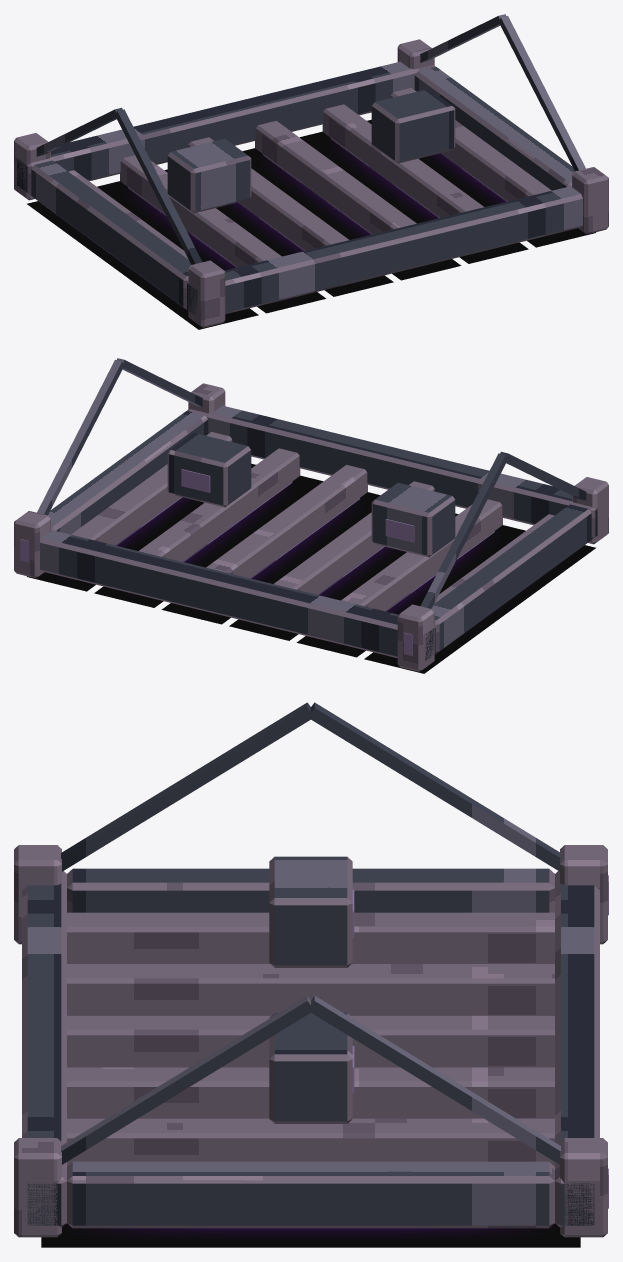
Rendered from placed_uv_panel_6_lit.obj.
3 views of the same model, one above another, from view 1: azimuth 30°, elevation 25°; view 2: azimuth 150°, elevation 25°; view 3: azimuth 270°, elevation 25° (orthographic). The views are drawn at different scales.
Parts seen in each view (by area): view 1: model; view 2: model; view 3: model.
Boxes of the visible parts, left/top/right/bottom form: model: left=14, top=14, right=608, bottom=329; model: left=14, top=358, right=608, bottom=673; model: left=14, top=702, right=608, bottom=1247.
Size of the model in its own units: 1.44 by 0.5241 by 1.16.
